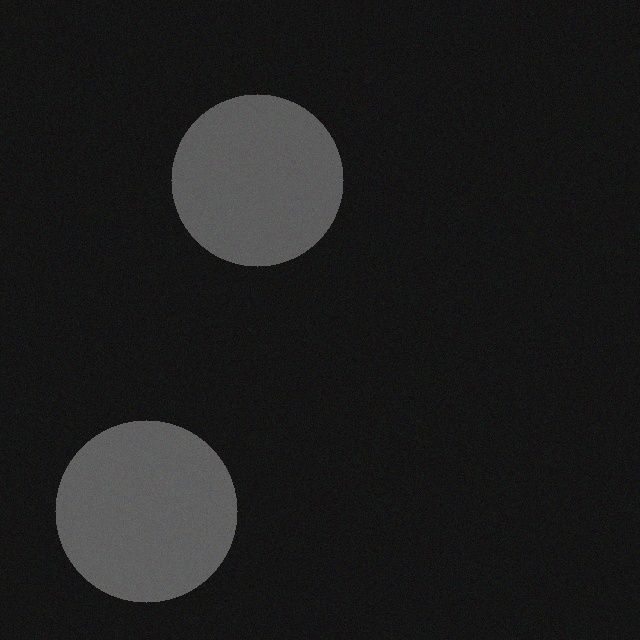circle: (58, 420, 240, 602), (174, 94, 346, 266)
